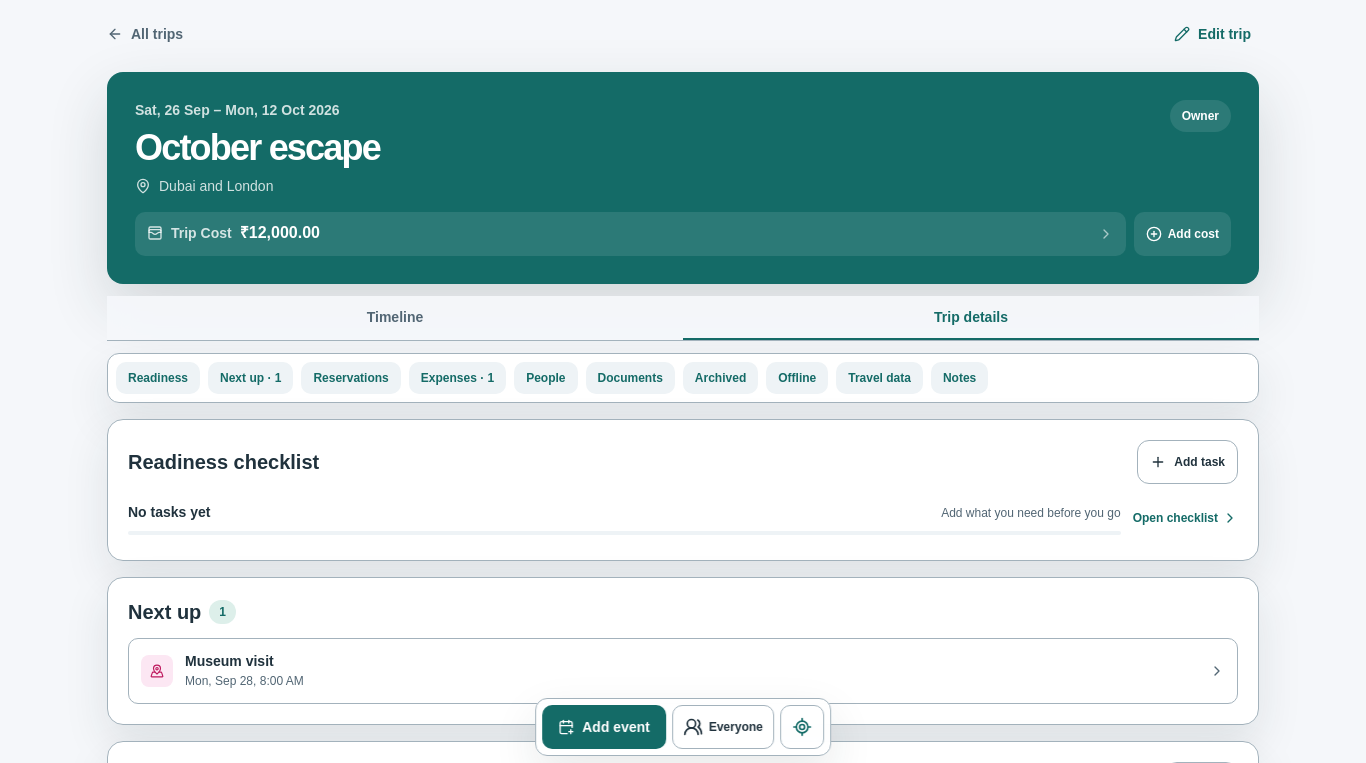
Test case: trip overview card › shows next-up icons, count and a local date below each title, while retaining event navigation
The width and height of the screenshot is (1366, 763).
expect the element "Next up" is shown: met, box [107,577,1259,725]
expect the text "1" is shown: met, box [209,600,236,624]
Click the link "Museum visit Mon, Sep 28, 8:00 AM": (157, 671) [141,653,1225,688]
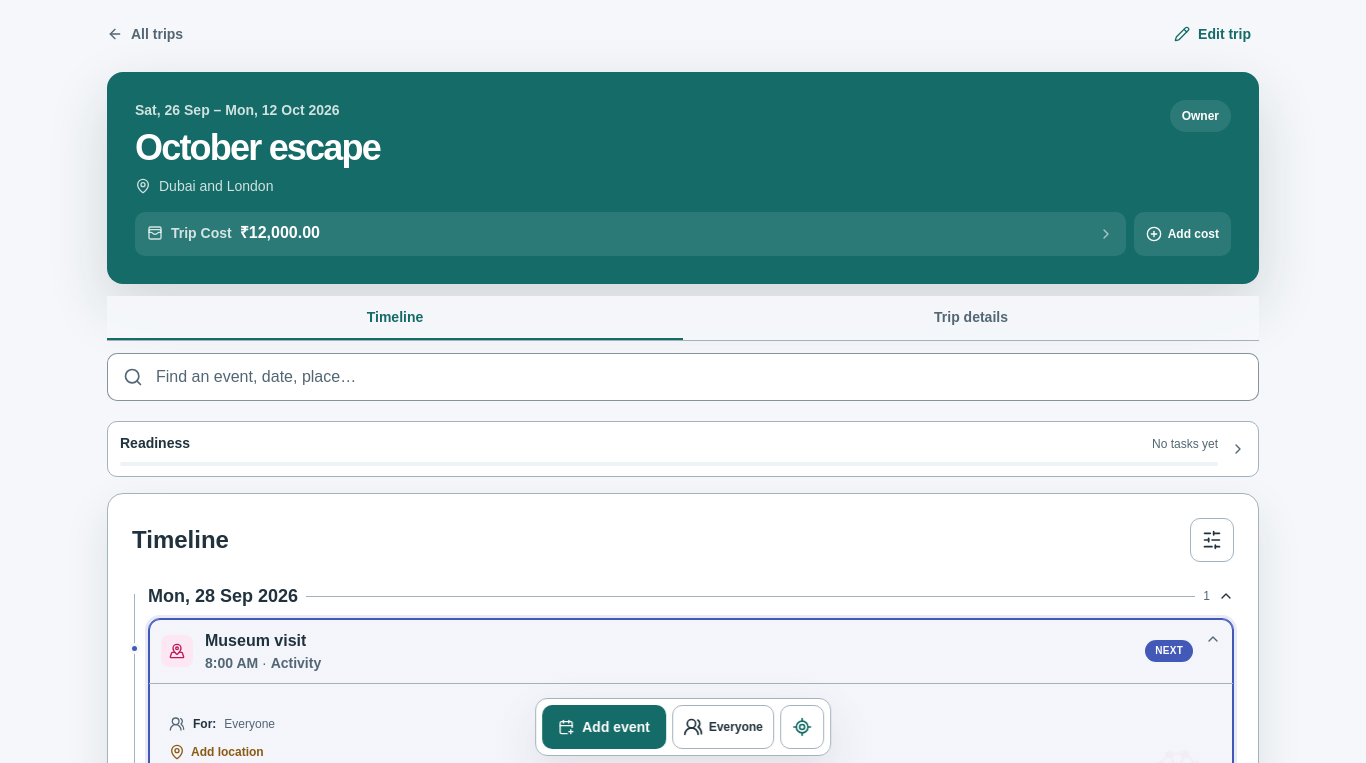
expect the button with aria-label "Collapse Museum visit" is shown: met, box [149,619,1233,683]
